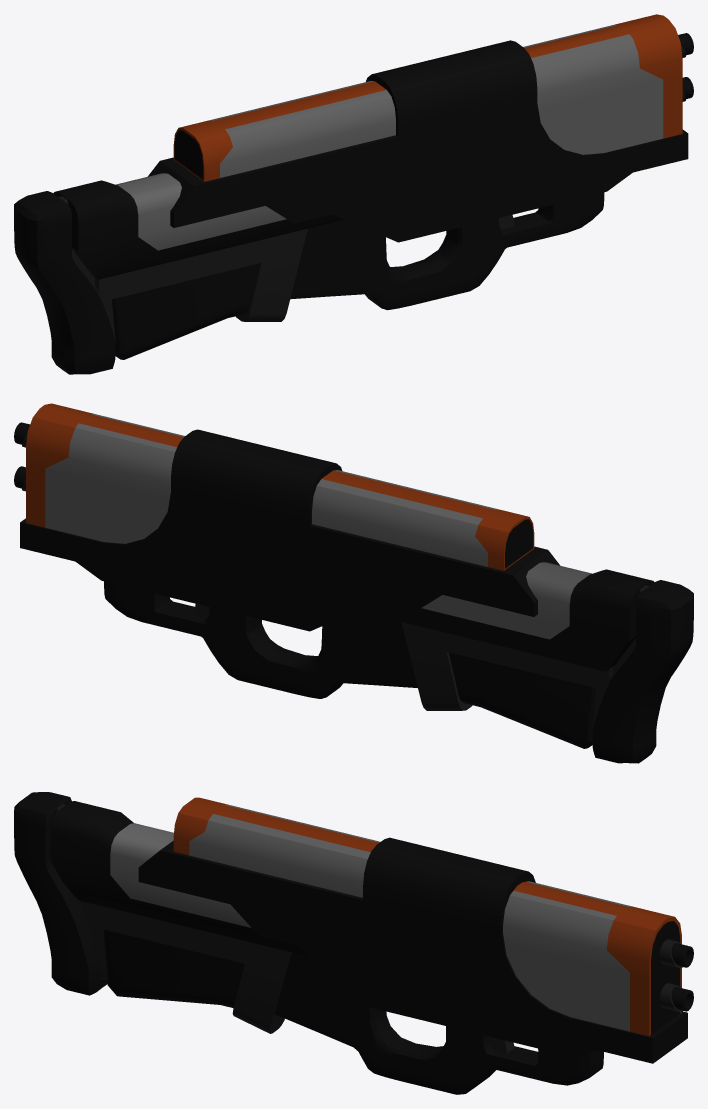
3 views of the same model, one above another, from view 1: azimuth 30°, elevation 25°; view 2: azimuth 150°, elevation 25°; view 3: azimuth 330°, elevation 25° (orthographic).
Visible parts, largest first — view 1: AR_2_Cube.041; view 2: AR_2_Cube.041; view 3: AR_2_Cube.041.
Part boxes in pixels (x1=…): AR_2_Cube.041: x1=14, y1=14, x2=693, y2=374; AR_2_Cube.041: x1=14, y1=403, x2=693, y2=763; AR_2_Cube.041: x1=14, y1=792, x2=693, y2=1094.
Bounding box in the file's own units: 1.49 × 0.4864 × 0.1356.
